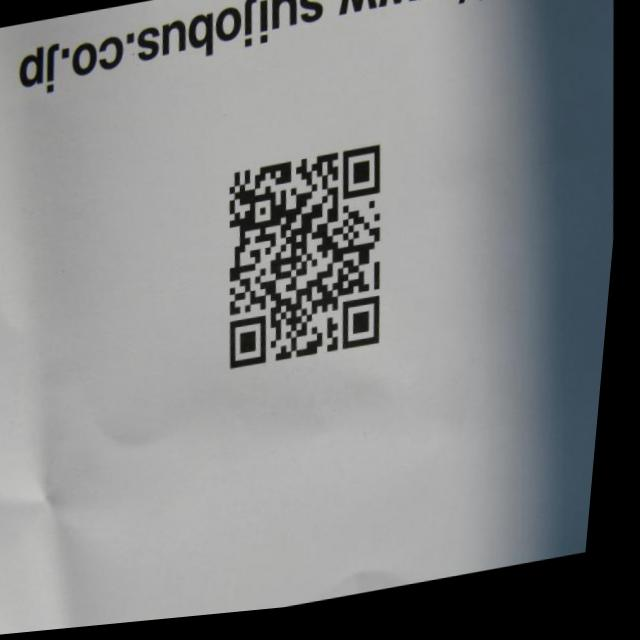qrcode: (218, 151, 400, 375)
